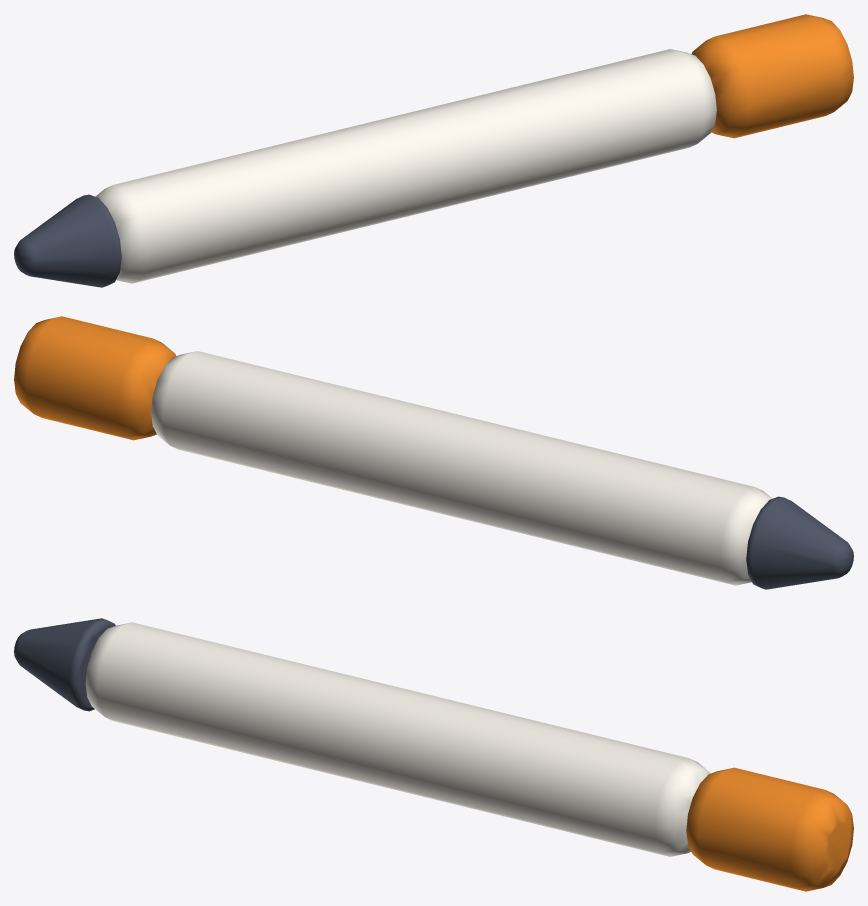
File: Prop_Pen.glb
3 renders of one model, top to bottom at view 1: azimuth 30°, elevation 25°; view 2: azimuth 150°, elevation 25°; view 3: azimuth 330°, elevation 25°, orthographic.
Visible parts, largest first — view 1: Prop_Pen.Barrel, Prop_Pen.Cap, Prop_Pen.Tip; view 2: Prop_Pen.Barrel, Prop_Pen.Cap, Prop_Pen.Tip; view 3: Prop_Pen.Barrel, Prop_Pen.Cap, Prop_Pen.Tip.
Boxes of the visible parts, x1,y1,x2,y2 form: Prop_Pen.Barrel: [95, 49, 716, 283]; Prop_Pen.Cap: [691, 14, 853, 138]; Prop_Pen.Tip: [14, 194, 121, 287]; Prop_Pen.Barrel: [151, 351, 772, 585]; Prop_Pen.Cap: [14, 316, 176, 440]; Prop_Pen.Tip: [746, 496, 853, 589]; Prop_Pen.Barrel: [85, 622, 710, 856]; Prop_Pen.Cap: [686, 767, 853, 891]; Prop_Pen.Tip: [14, 618, 115, 711].
Size of the model in its own units: 0.3 by 0.033 by 0.033.
Materials: 1 (1 with a texture image).
